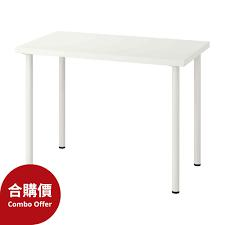desk: (11, 15, 217, 194)
